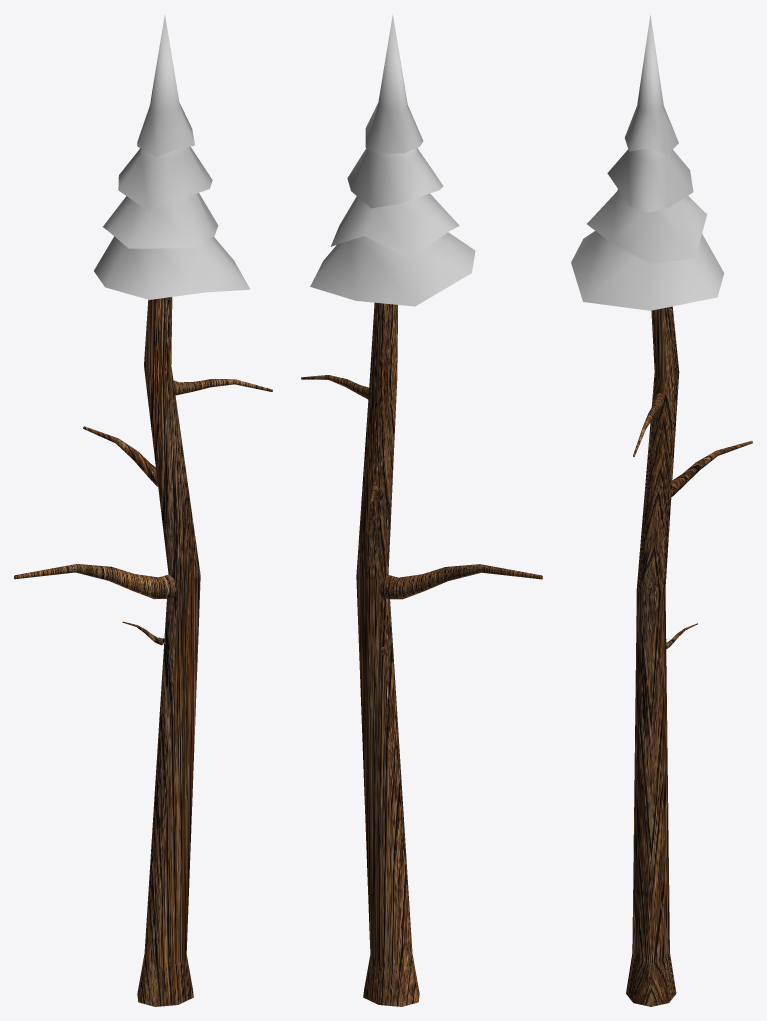
Rendered from Arbol.fbx.
The picture shows the model from 3 angles, left to right: view 1: azimuth 30°, elevation 25°; view 2: azimuth 150°, elevation 25°; view 3: azimuth 270°, elevation 25°; orthographic projection.
Visible parts, largest first — view 1: Object047; view 2: Object047; view 3: Object047.
Part boxes in pixels (left/top/right/bottom): Object047: left=14, top=15, right=272, bottom=1006; Object047: left=301, top=14, right=542, bottom=1006; Object047: left=571, top=14, right=752, bottom=1006.
Size of the model in its own units: 0.6417 by 2.41 by 0.4058.
